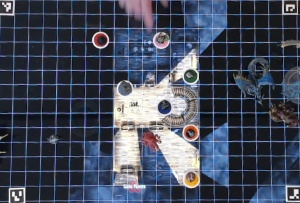blue: (157, 98, 172, 115)
green: (182, 67, 199, 83)
orange: (181, 122, 202, 140)
pink: (152, 29, 171, 48)
red: (90, 28, 111, 49)
violet: (115, 78, 134, 97)
yellow: (181, 169, 201, 186)
